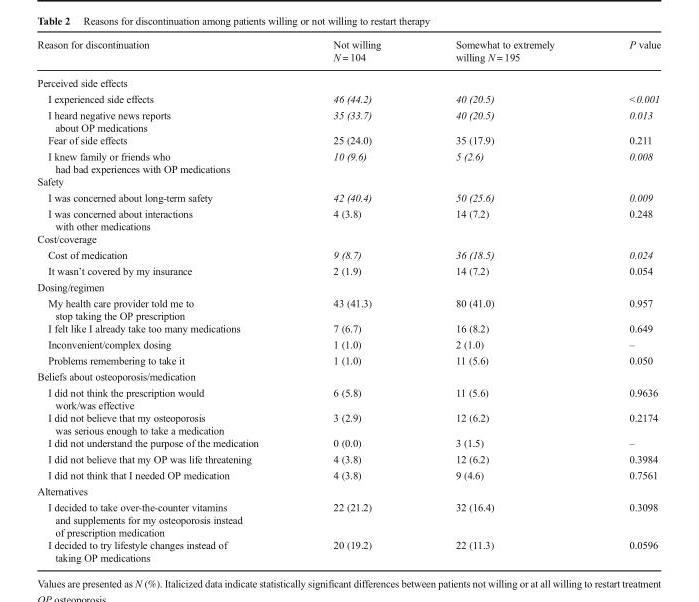table: (36, 37, 660, 562)
table column: (36, 37, 295, 562), (417, 37, 591, 562), (295, 37, 417, 562), (591, 37, 660, 562)
table column header: (36, 37, 660, 69)
table projected row header: (36, 69, 660, 90), (36, 278, 660, 294), (36, 368, 660, 384), (36, 482, 660, 498), (36, 174, 660, 188), (36, 232, 660, 246)
table row: (36, 498, 660, 538), (36, 37, 660, 69), (36, 106, 660, 133), (36, 147, 660, 174), (36, 205, 660, 232), (36, 294, 660, 321), (36, 384, 660, 411), (36, 411, 660, 436), (36, 538, 660, 562), (36, 69, 660, 90), (36, 188, 660, 205), (36, 335, 660, 352), (36, 90, 660, 106), (36, 246, 660, 262), (36, 262, 660, 278), (36, 278, 660, 294), (36, 352, 660, 368), (36, 368, 660, 384), (36, 450, 660, 466), (36, 466, 660, 482), (36, 482, 660, 498), (36, 133, 660, 147), (36, 174, 660, 188), (36, 232, 660, 246), (36, 321, 660, 335), (36, 436, 660, 450)
